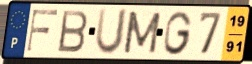7: (197, 10, 226, 56)
B: (56, 9, 90, 55)
F: (25, 8, 60, 54)
G: (162, 10, 194, 57)
M: (122, 10, 163, 55)
U: (93, 7, 130, 58)
